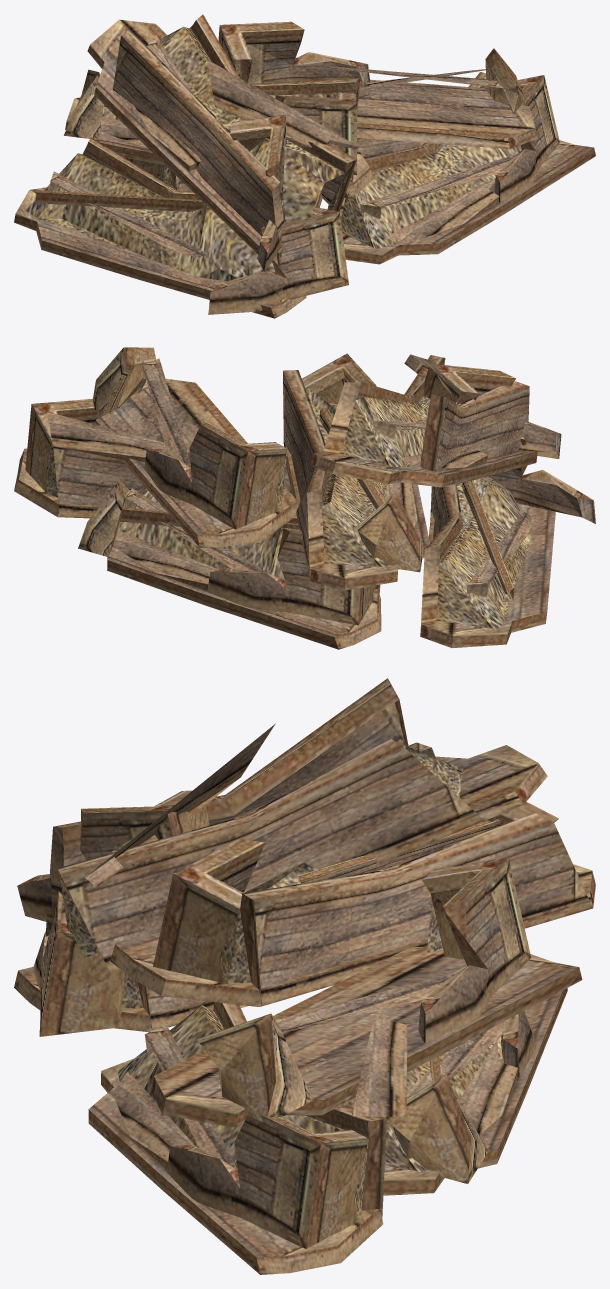
Rendered from wpnctx5.glb.
3 views of the same model, one above another, from view 1: azimuth 30°, elevation 25°; view 2: azimuth 150°, elevation 25°; view 3: azimuth 270°, elevation 25° (orthographic). The views are drawn at different scales.
Parts seen in each view (by area): view 1: _wpnctx5; view 2: _wpnctx5; view 3: _wpnctx5.
Part boxes in pixels (bbox=[...]): _wpnctx5: bbox=[14, 14, 595, 318]; _wpnctx5: bbox=[14, 347, 595, 649]; _wpnctx5: bbox=[14, 678, 595, 1274].
Bounding box in the file's own units: 3.39 × 1.25 × 2.24.
Materials: 1 (1 with a texture image).
